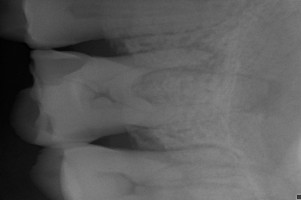Furcation Involvement: (168, 39, 225, 74), (242, 79, 283, 114)
